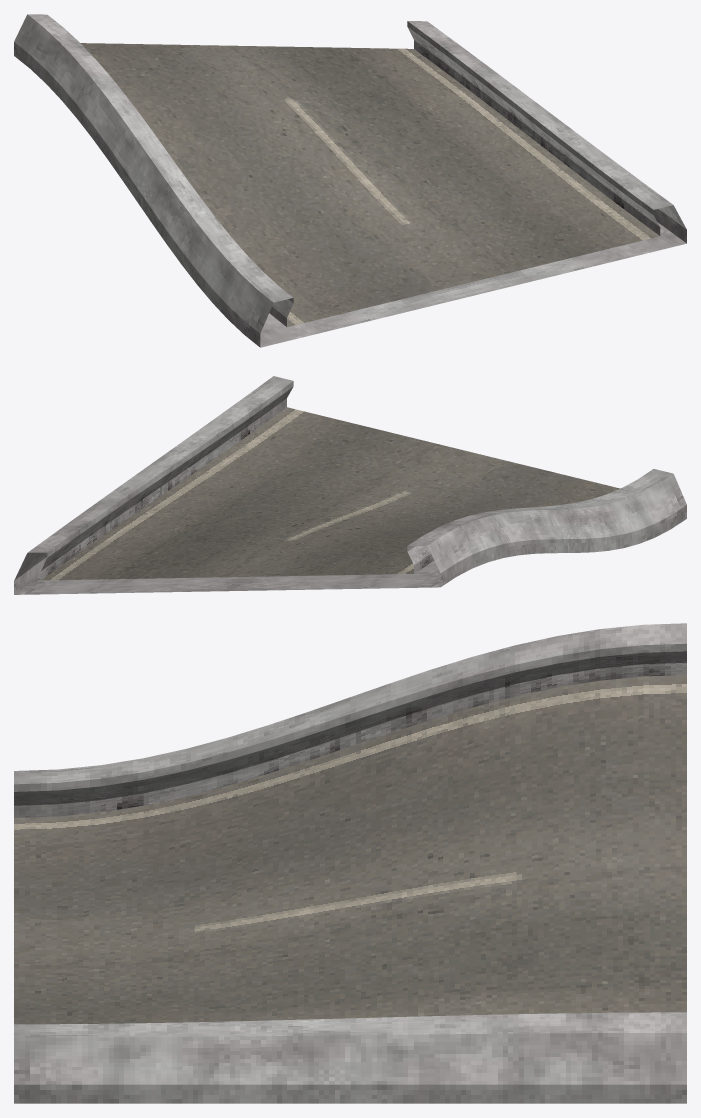
File: straight1.glb
The picture shows the model from 3 angles, top to bottom: view 1: azimuth 30°, elevation 25°; view 2: azimuth 150°, elevation 25°; view 3: azimuth 270°, elevation 25°; orthographic projection. The views are drawn at different scales.
Parts seen in each view (by area): view 1: road-Straight-Flat-HalfBankedRight-Even-Center-Size1; view 2: road-Straight-Flat-HalfBankedRight-Even-Center-Size1; view 3: road-Straight-Flat-HalfBankedRight-Even-Center-Size1.
Part boxes in pixels (x1,y1,x2,y2): road-Straight-Flat-HalfBankedRight-Even-Center-Size1: (14,14,686,347); road-Straight-Flat-HalfBankedRight-Even-Center-Size1: (14,376,686,594); road-Straight-Flat-HalfBankedRight-Even-Center-Size1: (14,623,686,1103).
Bounding box in the file's own units: 1 × 0.3359 × 1.
2 materials, 2 textured.
